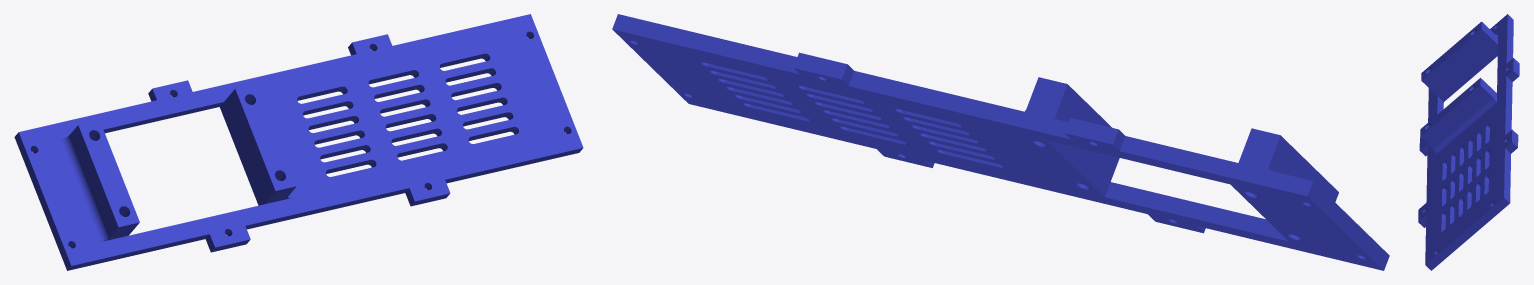
3 renders of one model, left to right at view 1: azimuth 30°, elevation 25°; view 2: azimuth 150°, elevation 25°; view 3: azimuth 270°, elevation 25°, orthographic. The views are drawn at different scales.
Visible parts, largest first — view 1: node_id3; view 2: node_id3; view 3: node_id3.
Boxes of the visible parts, box(x1,y1,x2,y2) form: node_id3: box(14, 14, 583, 270); node_id3: box(612, 14, 1389, 270); node_id3: box(1418, 14, 1519, 270).
Bounding box in the file's own units: 0.5135 × 0.1196 × 0.1217.
1 material, 1 textured.
